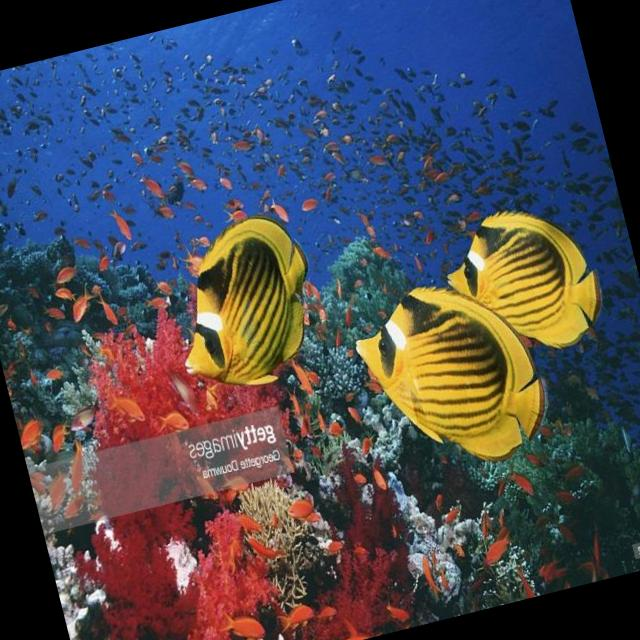ButterflyFish: (344, 264, 562, 488), (156, 208, 335, 403), (435, 196, 607, 372)
